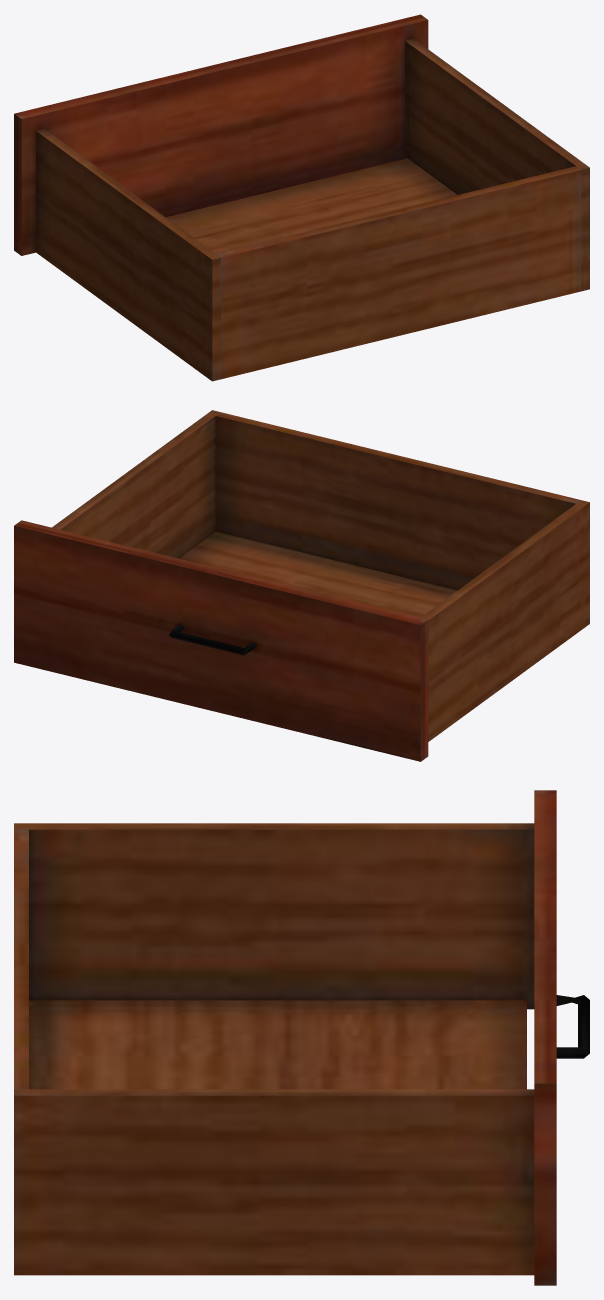
Rendered from drawer_floor_empty_lod1_web.glb.
3 renders of one model, top to bottom at view 1: azimuth 30°, elevation 25°; view 2: azimuth 150°, elevation 25°; view 3: azimuth 270°, elevation 25°, orthographic. The views are drawn at different scales.
Parts seen in each view (by area): view 1: DrawerFloorEmpty_Body; view 2: DrawerFloorEmpty_Body; view 3: DrawerFloorEmpty_Body.
Part boxes in pixels (x1,y1,x2,y2): DrawerFloorEmpty_Body: (14, 14, 589, 381); DrawerFloorEmpty_Body: (14, 410, 589, 761); DrawerFloorEmpty_Body: (14, 790, 589, 1285).
Size of the model in its own units: 0.56 by 0.18 by 0.4649.
Materials: 1 (1 with a texture image).
